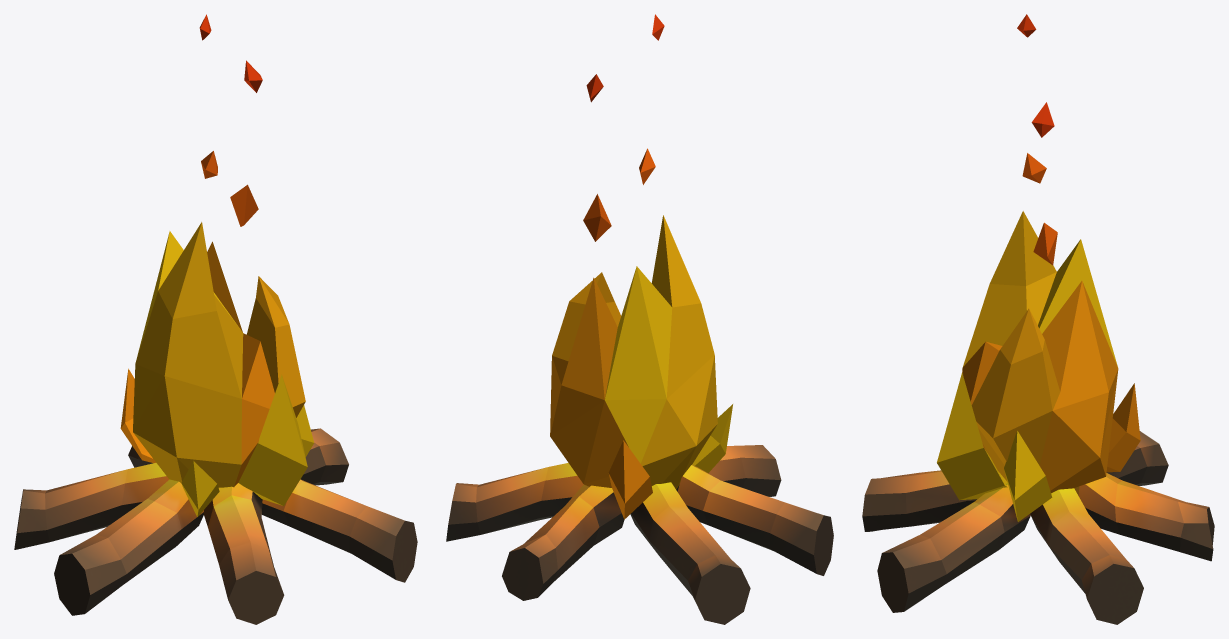
The model's file is PUSHILIN_campfire.glb.
The picture shows the model from 3 angles, left to right: view 1: azimuth 30°, elevation 25°; view 2: azimuth 150°, elevation 25°; view 3: azimuth 270°, elevation 25°; orthographic projection. The views are drawn at different scales.
Visible parts, largest first — view 1: node-0; view 2: node-0; view 3: node-0.
Boxes of the visible parts, x1,y1,x2,y2 form: node-0: [14, 14, 417, 624]; node-0: [446, 14, 833, 624]; node-0: [862, 14, 1214, 624].
Bounding box in the file's own units: 1.68 × 2.67 × 1.59.
Materials: 1 (1 with a texture image).
